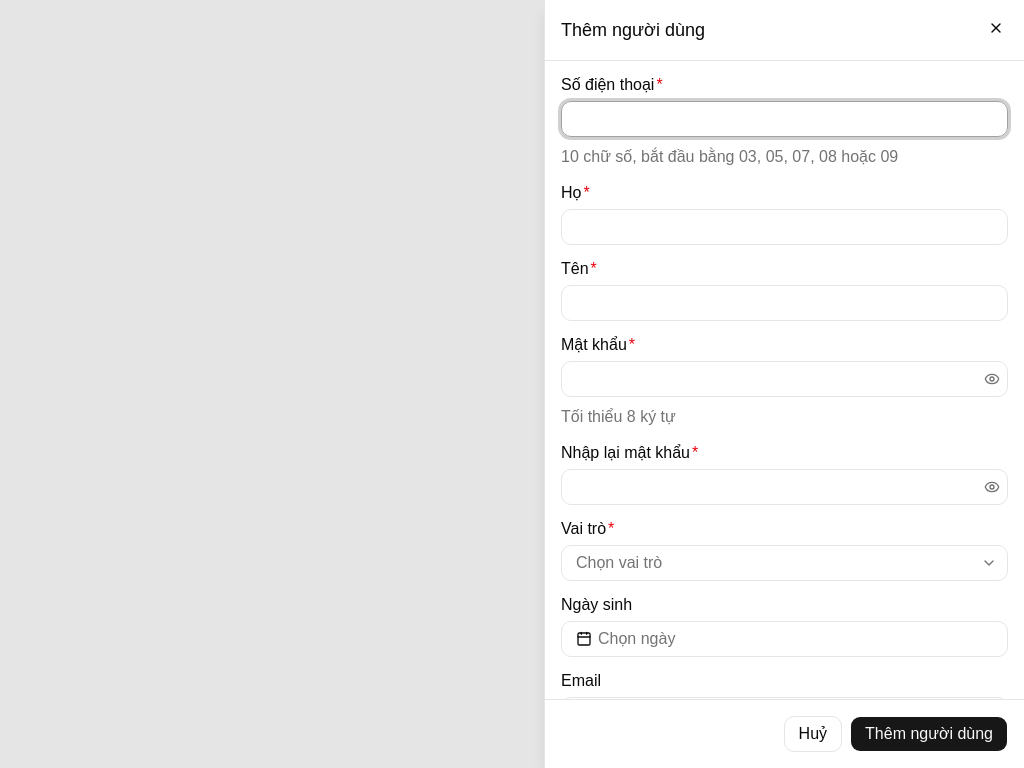
Test: UserFormSheet — tạo › bấm Thêm khi trống → hiện lỗi ở mọi ô bắt buộc, không gọi API
Click the button "Thêm người dùng".
click(929, 734)  # box 850,716 -> 1008,752
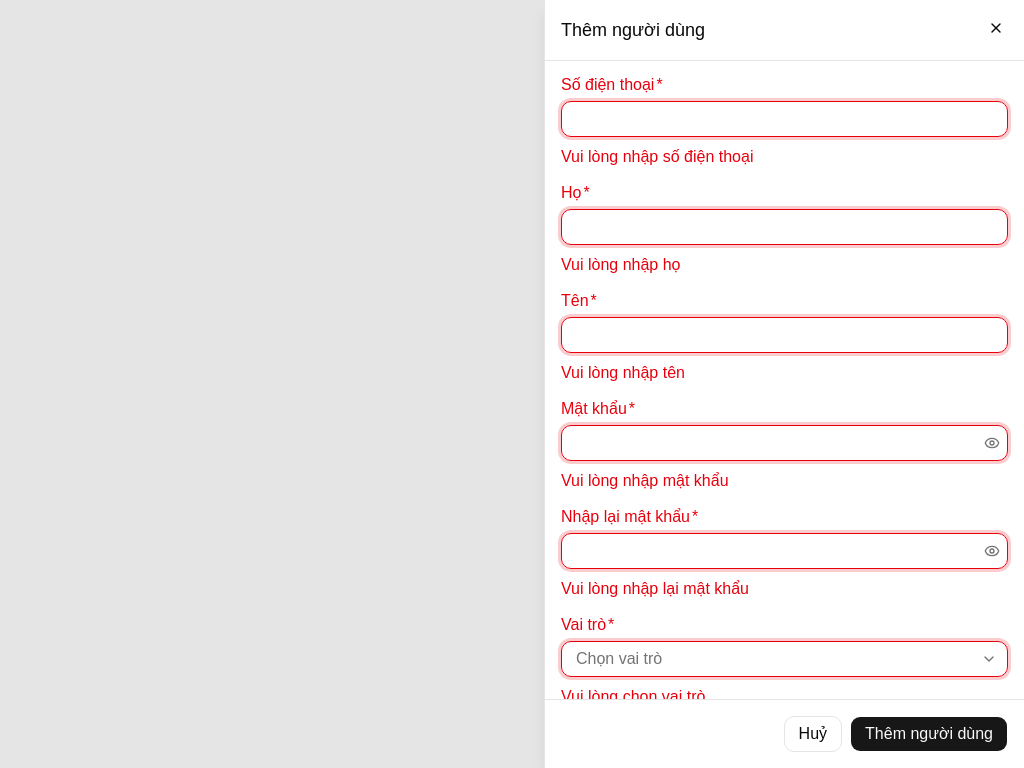
Expected: the text "Vui lòng nhập số điện thoại" is shown, 561,148 -> 754,165
Expected: the text "Vui lòng nhập họ" is shown, 561,256 -> 680,273
Expected: the text "Vui lòng nhập tên" is shown, 561,364 -> 685,381
